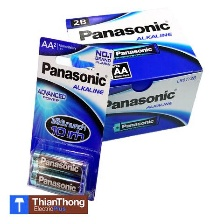battery: (24, 169, 87, 200), (28, 148, 89, 179)
book: (57, 3, 205, 148), (24, 32, 115, 205)
